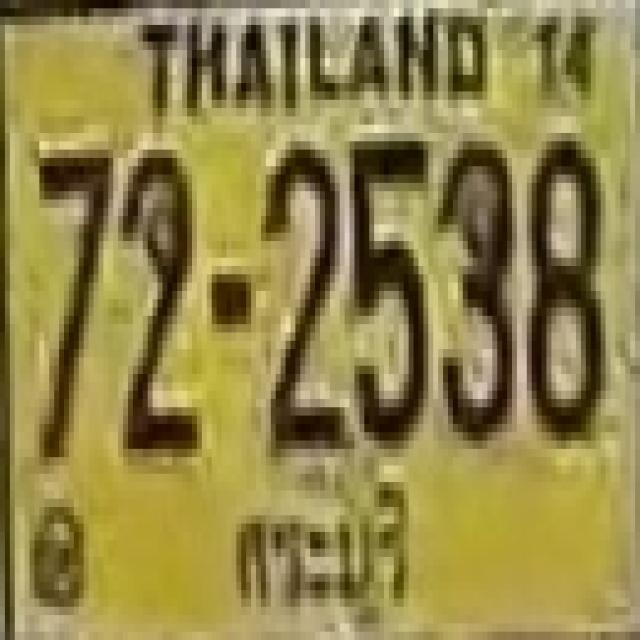2: (118, 141, 202, 452), (261, 137, 344, 447)
3: (433, 137, 517, 444)
5: (347, 133, 431, 448)
7: (34, 141, 109, 457)
8: (522, 133, 606, 441)
KBI: (222, 472, 414, 634)
